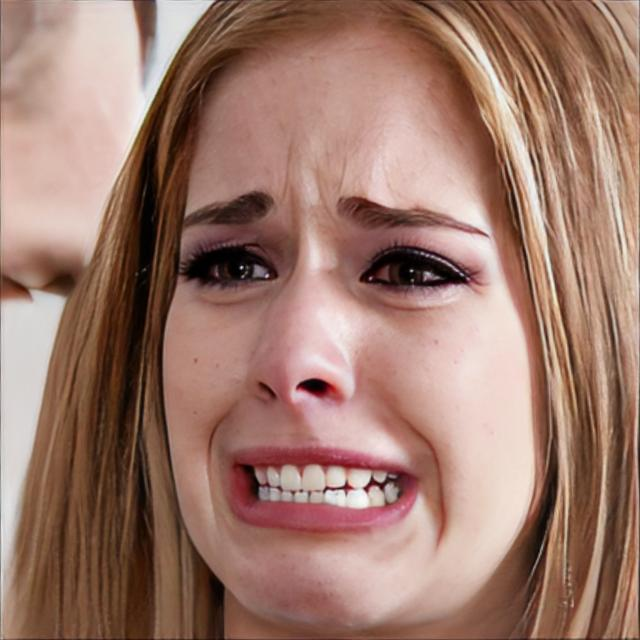sad: (159, 30, 550, 632)
